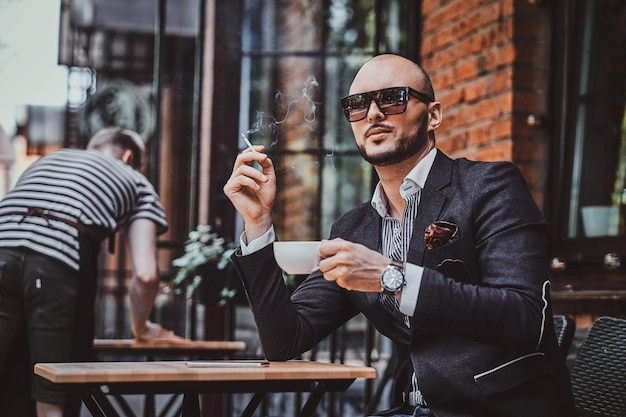cigarette: (240, 133, 264, 162)
